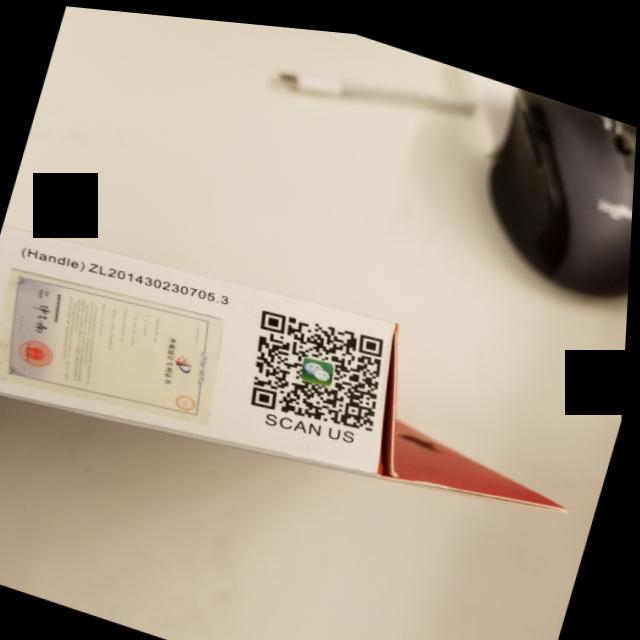QR_CODE: (224, 281, 433, 467)
